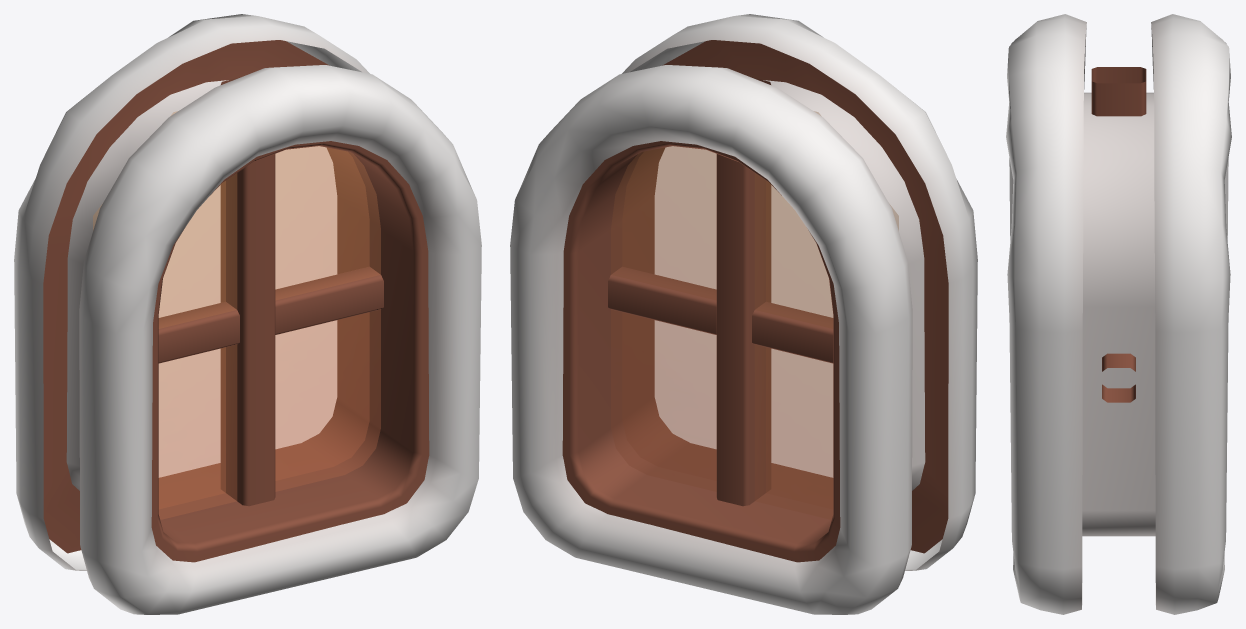
File: Window_001.glb
3 renders of one model, left to right at view 1: azimuth 30°, elevation 25°; view 2: azimuth 150°, elevation 25°; view 3: azimuth 270°, elevation 25°, orthographic.
Parts seen in each view (by area): view 1: Window_001; view 2: Window_001; view 3: Window_001.
Part boxes in pixels (left/top/right/bottom): Window_001: left=14, top=14, right=481, bottom=614; Window_001: left=510, top=14, right=977, bottom=614; Window_001: left=1006, top=14, right=1231, bottom=614.
Size of the model in its own units: 1.06 by 1.35 by 0.5377.
Materials: 3 (3 with a texture image).
